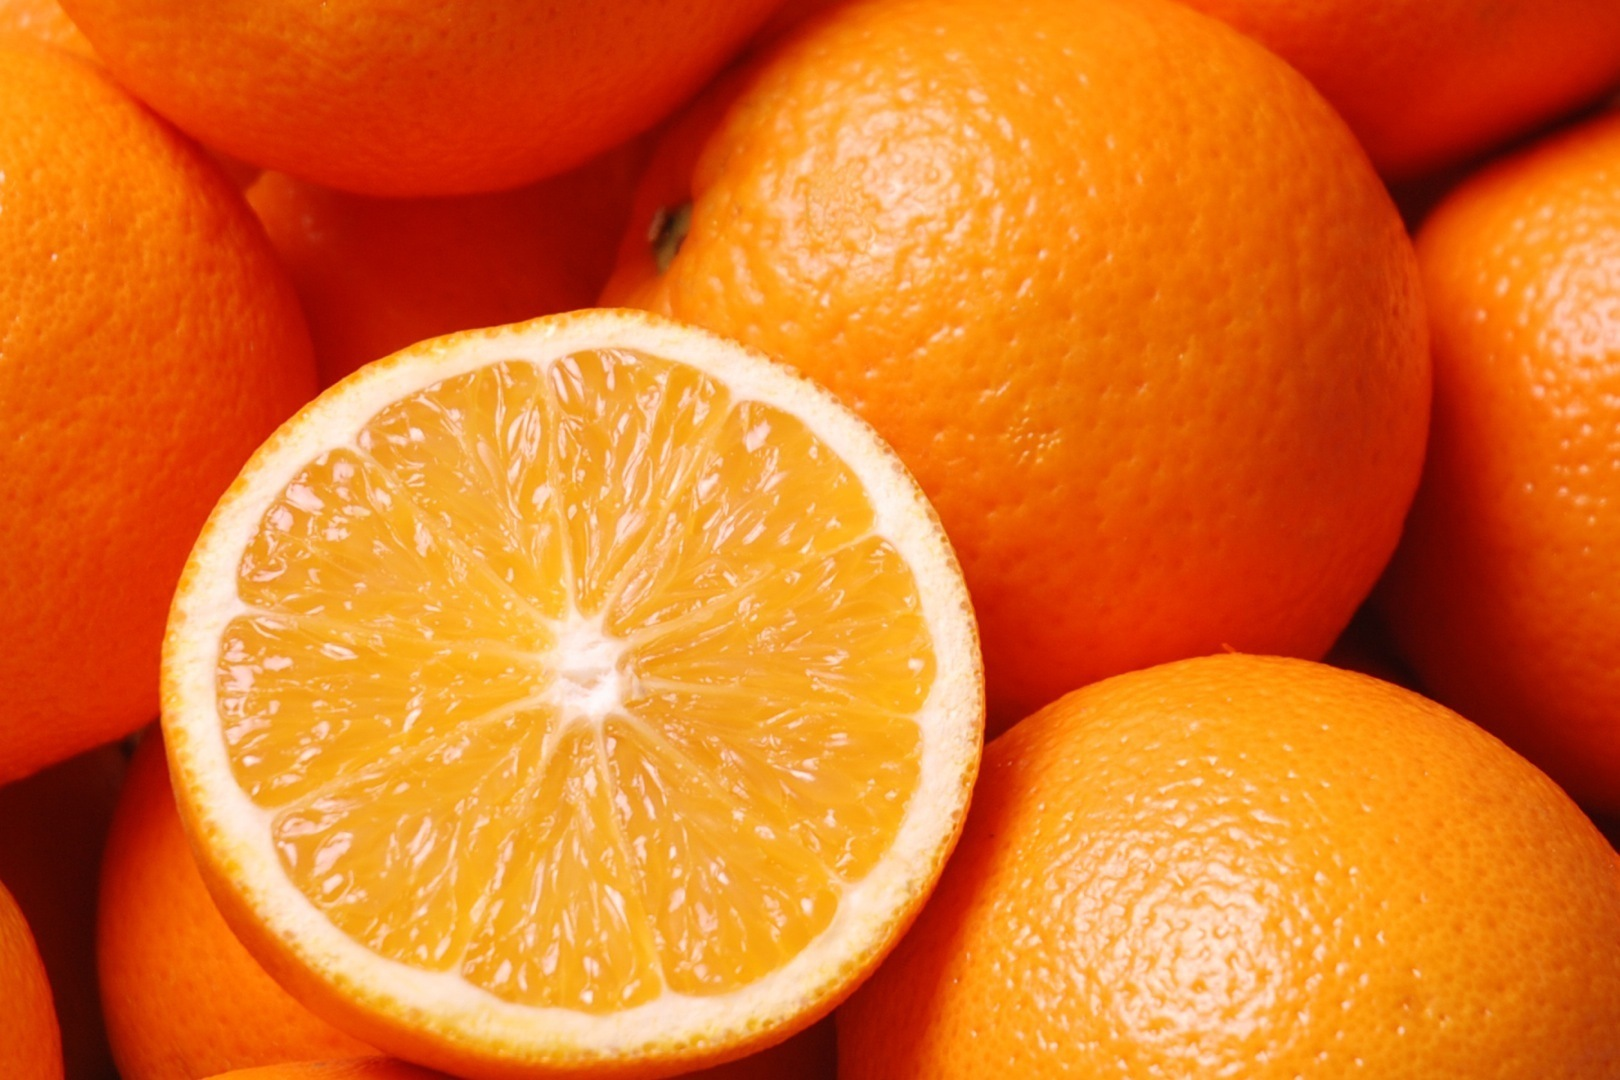orange: (494, 1, 1452, 741), (822, 643, 1620, 1066)
